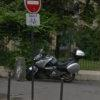Motorcycle: (21, 46, 88, 84)
